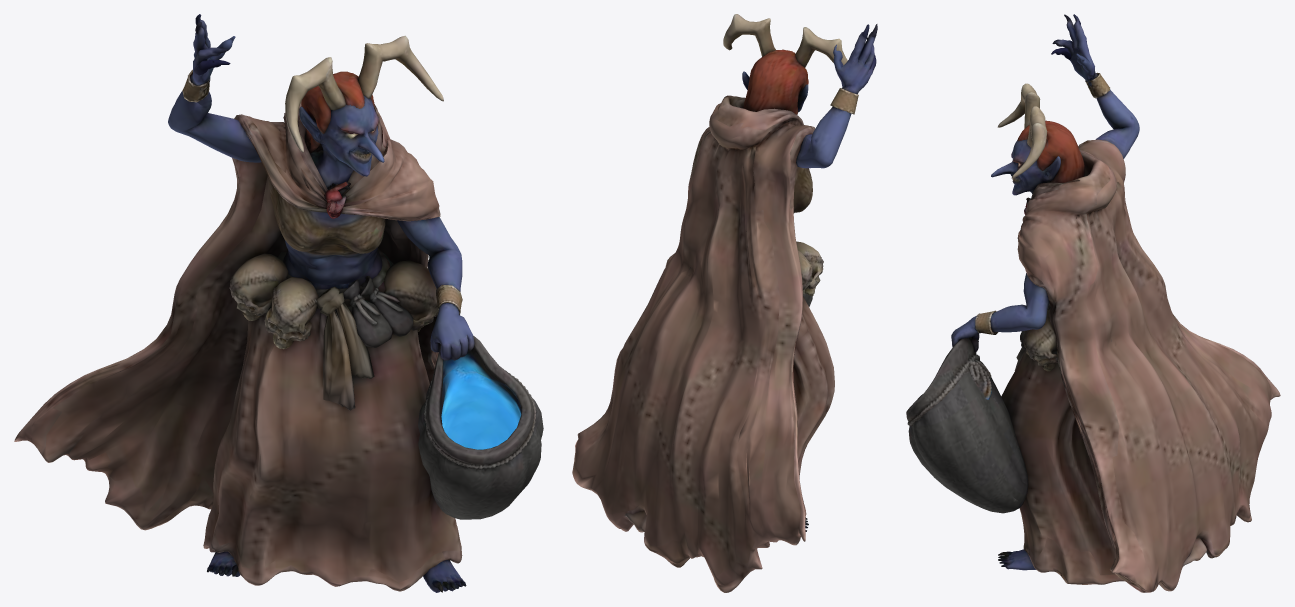
The model's file is MZ4250 - Night Hag 2025.glb.
3 renders of one model, left to right at view 1: azimuth 30°, elevation 25°; view 2: azimuth 150°, elevation 25°; view 3: azimuth 270°, elevation 25°, orthographic. The views are drawn at different scales.
Visible parts, largest first — view 1: Body.002; view 2: Body.002; view 3: Body.002.
Part boxes in pixels (x1,y1,x2,y2): Body.002: (14,14,543,592); Body.002: (572,14,877,592); Body.002: (906,14,1280,592).
Bounding box in the file's own units: 65.92 × 103 × 71.74.
Materials: 3 (3 with a texture image).
